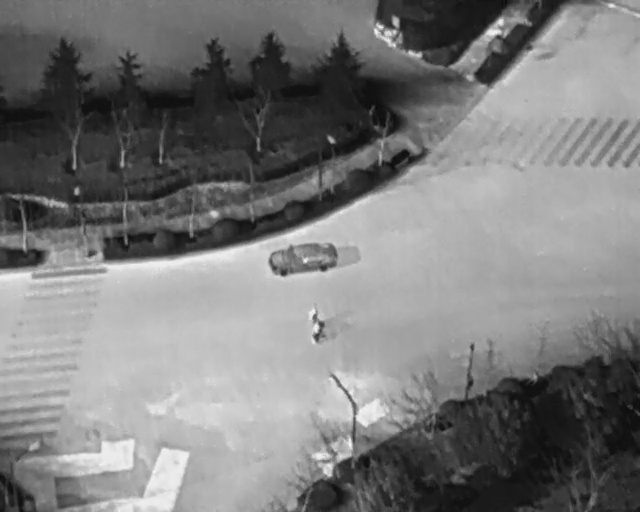Car: (267, 241, 340, 278)
Person: (312, 318, 325, 345), (309, 301, 318, 327)
